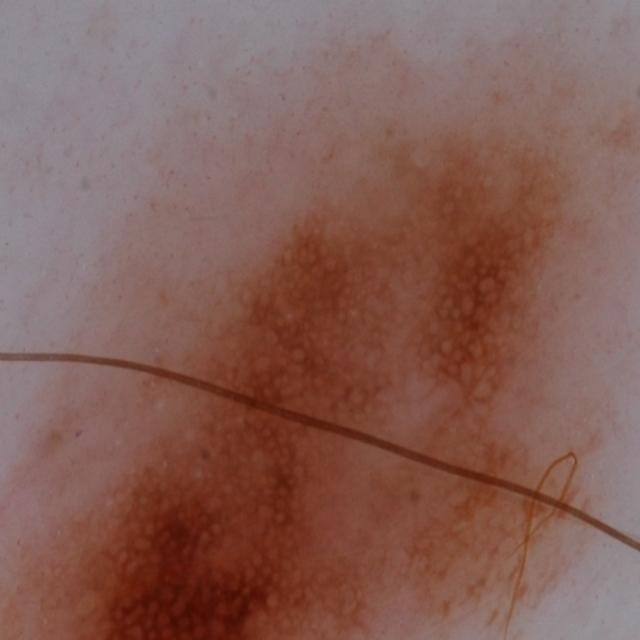Melanoma: (7, 92, 613, 640)
